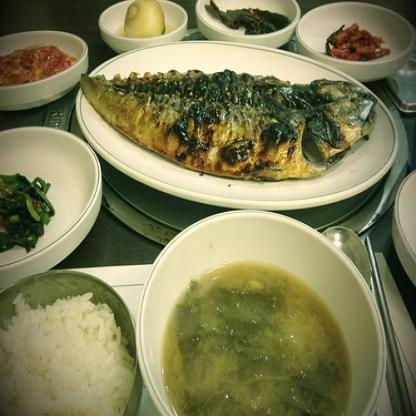Peixe: (66, 56, 385, 209)
